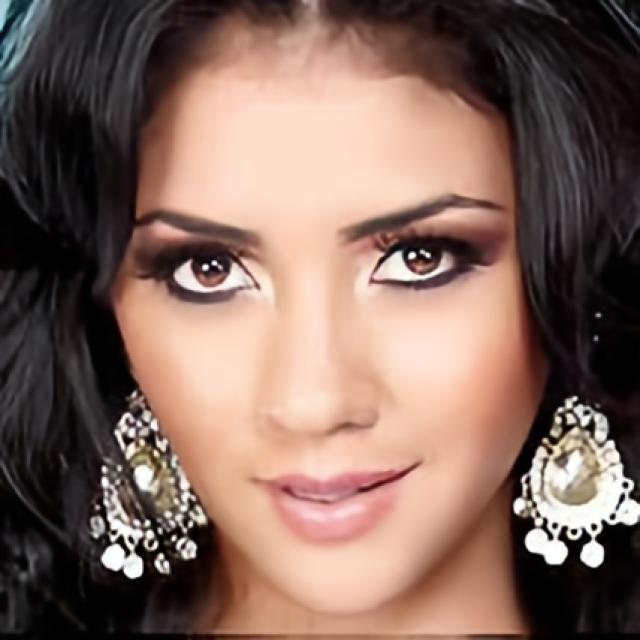content: (114, 0, 556, 619)
